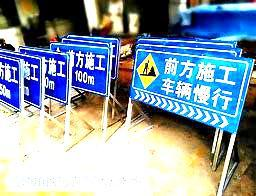sign: (134, 50, 242, 126), (72, 47, 108, 96), (44, 53, 67, 104), (1, 57, 20, 115), (25, 58, 42, 107)
